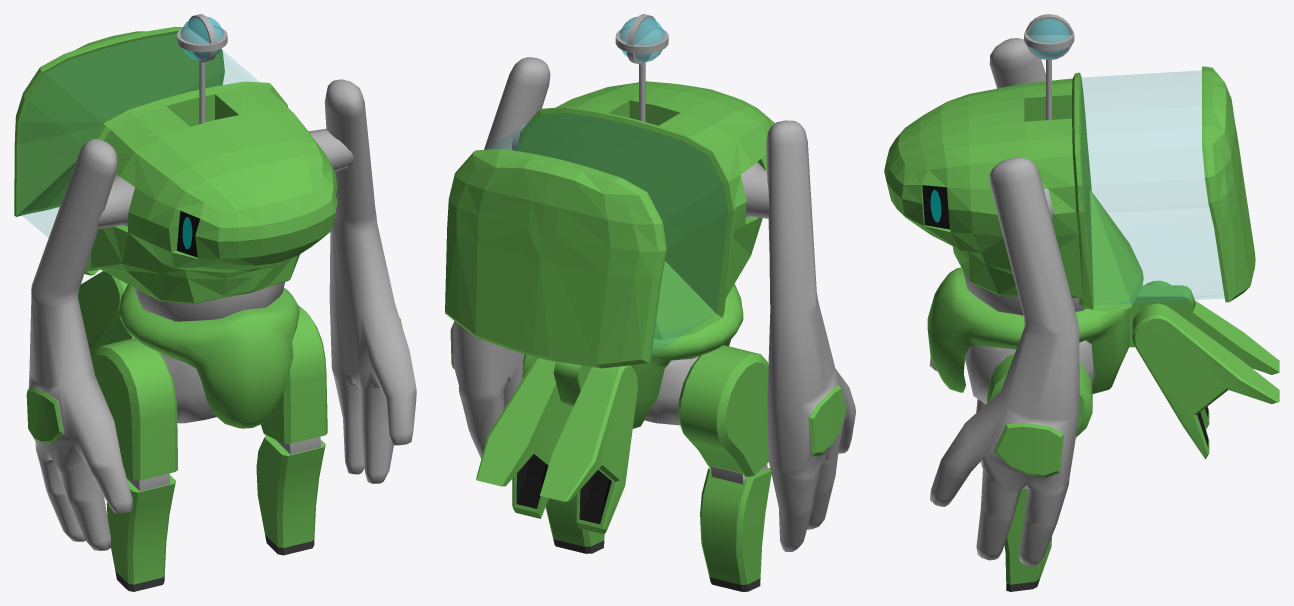
The model's file is character_01.fbx.
3 views of the same model, side by side, from view 1: azimuth 30°, elevation 25°; view 2: azimuth 150°, elevation 25°; view 3: azimuth 270°, elevation 25° (orthographic). The views are drawn at different scales.
Parts seen in each view (by area): view 1: polySurface34, L_ude11, L_ude1, kosi1, L_asi6, L_asi3, L_asi2, L_asi5, pCube19, polySurface35, polySurface32, pSphere1 (+3 smaller); view 2: polySurface34, L_ude11, pCube19, L_asi6, L_ude1, pCube18, L_asi5, kosi1, L_asi3, polySurface32, pSphere1, pCylinder46 (+1 smaller); view 3: polySurface34, L_ude1, kosi1, pCube18, pCube19, L_ude11, L_asi3, L_asi2, pCylinder47, pSphere1, polySurface35, pCylinder46.
Boxes of the visible parts, bbox=[...] form: polySurface34: bbox=[14, 26, 337, 303]; L_ude11: bbox=[26, 139, 132, 550]; L_ude1: bbox=[324, 79, 416, 483]; kosi1: bbox=[119, 284, 299, 428]; L_asi6: bbox=[91, 338, 177, 491]; L_asi3: bbox=[256, 435, 325, 555]; L_asi2: bbox=[261, 306, 327, 454]; L_asi5: bbox=[106, 475, 175, 591]; pCube19: bbox=[78, 271, 132, 355]; polySurface35: bbox=[133, 282, 284, 321]; polySurface32: bbox=[97, 174, 134, 228]; pSphere1: bbox=[180, 16, 223, 60]; polySurface34: bbox=[445, 81, 774, 368]; L_ude11: bbox=[766, 120, 855, 551]; pCube19: bbox=[539, 365, 637, 534]; L_asi6: bbox=[678, 345, 768, 484]; L_ude1: bbox=[450, 57, 550, 458]; pCube18: bbox=[476, 357, 573, 518]; L_asi5: bbox=[700, 467, 771, 591]; kosi1: bbox=[553, 284, 743, 428]; L_asi3: bbox=[545, 494, 604, 553]; polySurface32: bbox=[741, 162, 768, 218]; pSphere1: bbox=[619, 16, 664, 62]; pCylinder46: bbox=[615, 26, 668, 53]; polySurface34: bbox=[884, 66, 1255, 312]; L_ude1: bbox=[930, 157, 1079, 566]; kosi1: bbox=[927, 267, 1195, 404]; pCube18: bbox=[1132, 303, 1279, 459]; pCube19: bbox=[1144, 280, 1279, 429]; L_ude11: bbox=[929, 38, 1045, 412]; L_asi3: bbox=[1004, 488, 1051, 591]; L_asi2: bbox=[987, 353, 1092, 437]; pCylinder47: bbox=[1026, 14, 1072, 60]; pSphere1: bbox=[1028, 18, 1069, 59]; polySurface35: bbox=[963, 271, 1085, 315]; pCylinder46: bbox=[1024, 30, 1074, 50].
Size of the model in its own units: 2.22 by 3.24 by 2.18.
